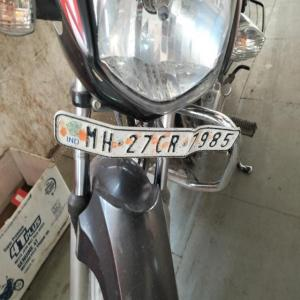Plate: (50, 115, 242, 160)
